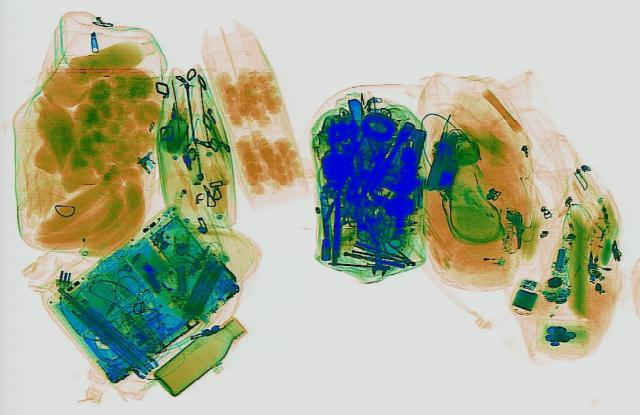Wrench: (364, 211, 386, 275)
